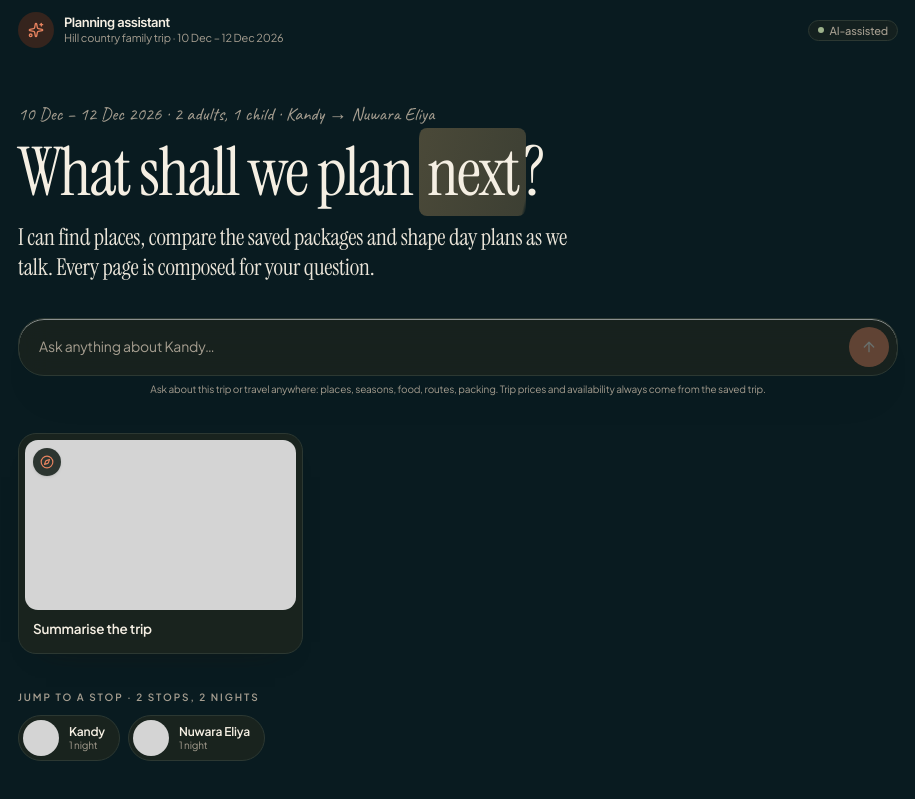
PlanningPanel › leaves a readable fallback and retry control when the request fails
The width and height of the screenshot is (915, 799).
Expected: the heading "What shall we plan next?" is shown, left=18, top=128, right=543, bottom=216
Click the button "Summarise the trip": (161, 543) left=18, top=433, right=303, bottom=654
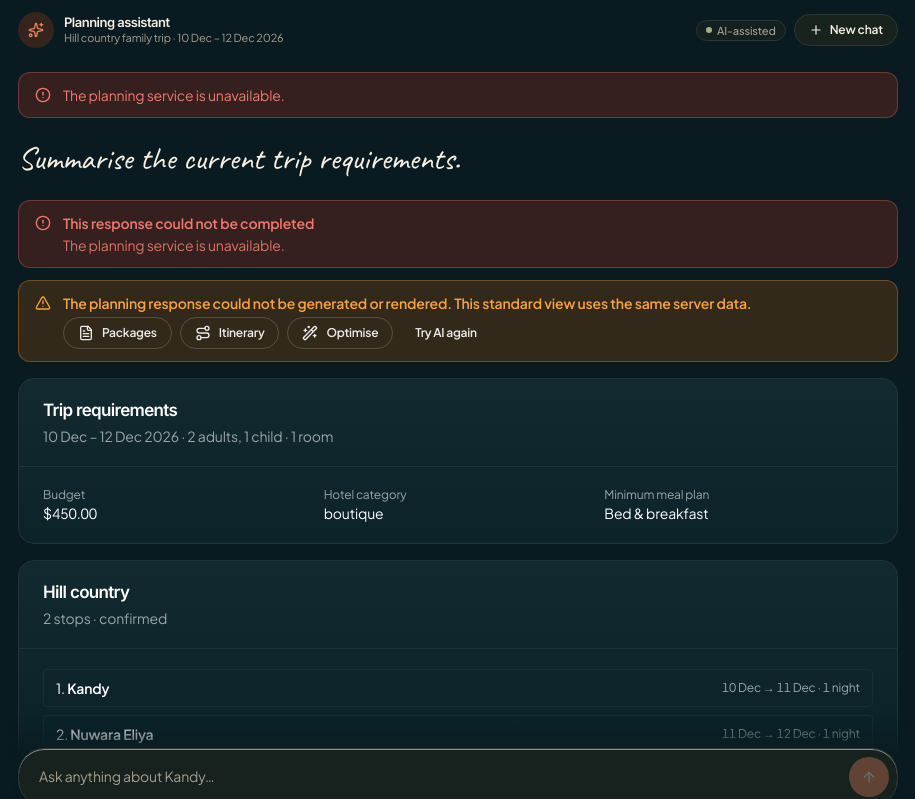
Now the text "could not be generated or rendered" is shown, box left=63, top=294, right=752, bottom=312
Now the 1st text "The planning service is unavailable." is shown, box left=63, top=86, right=285, bottom=104
